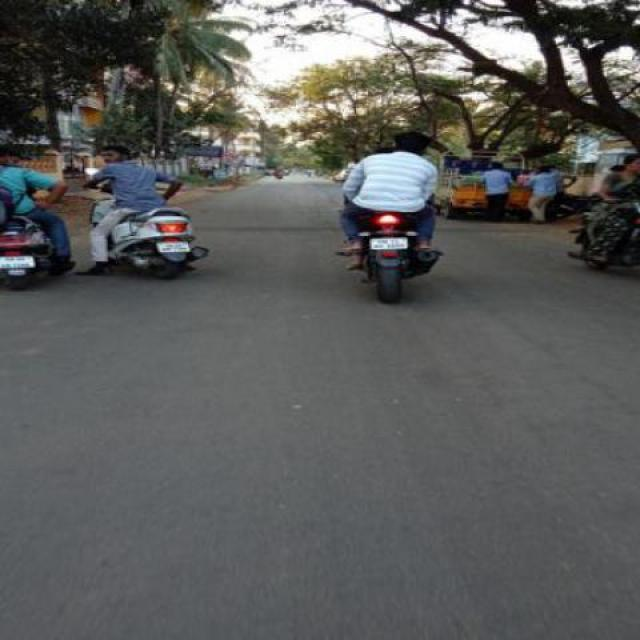Unmarked Bump: (188, 224, 342, 234), (434, 226, 566, 236)
